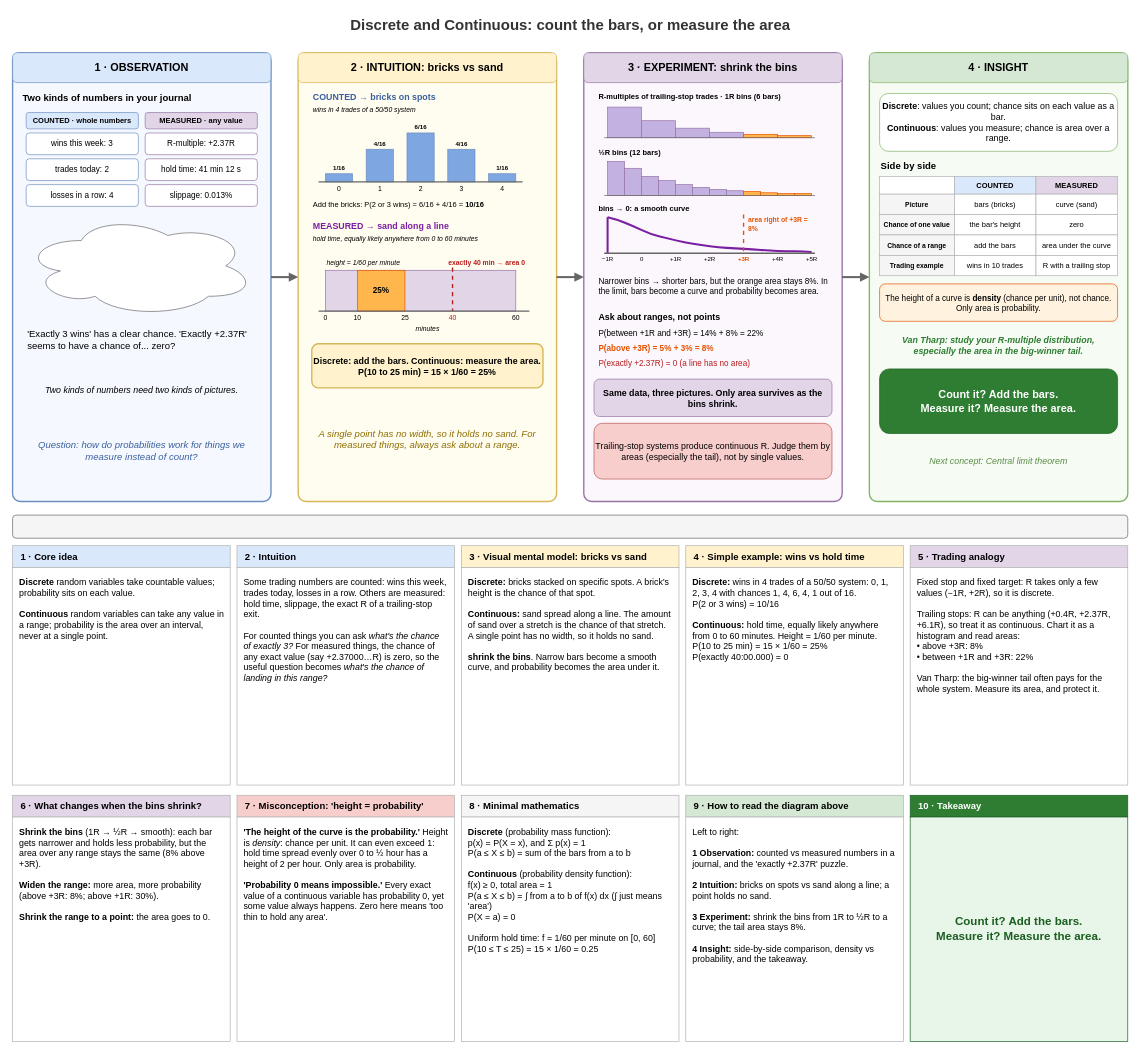
Image size: 1140x1053. Some labels were removed from this diagram. Here are the shapes that lost their labels. From the top down, the box of each, then its label:
(23, 215, 255, 317): What is the chance my next trade makes exactly +2.37R?
(12, 514, 1128, 538): LESSON NOTES: the full explanation, for future reference
